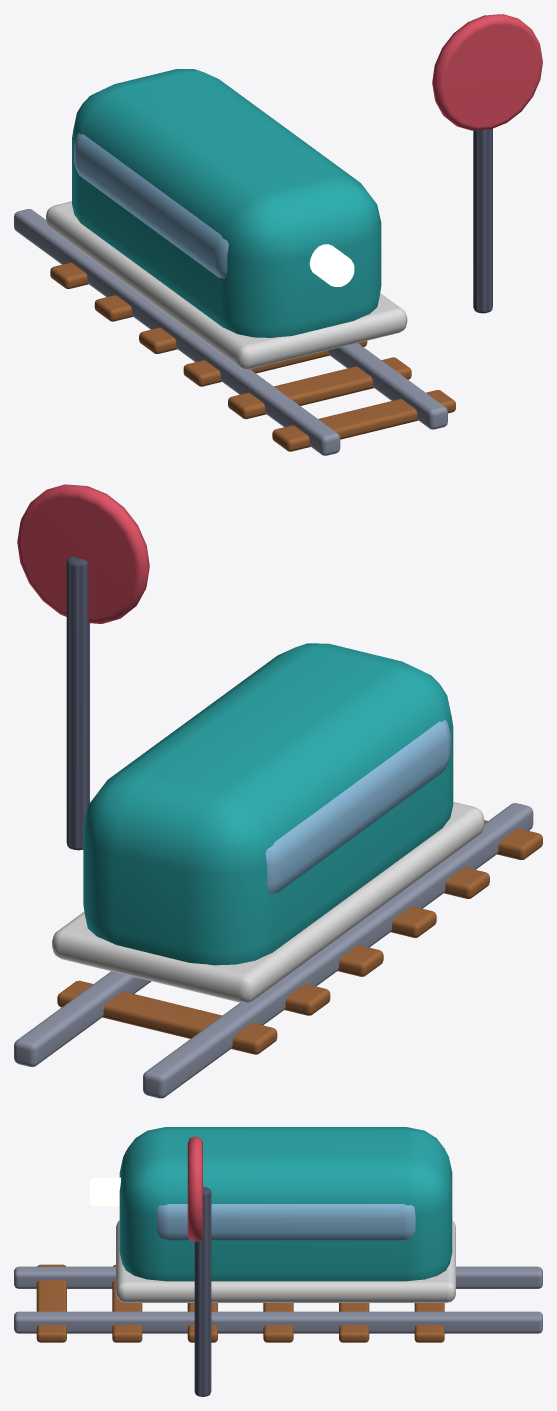
The model's file is s_metro.glb.
3 views of the same model, one above another, from view 1: azimuth 30°, elevation 25°; view 2: azimuth 150°, elevation 25°; view 3: azimuth 270°, elevation 25° (orthographic). The views are drawn at different scales.
Parts seen in each view (by area): view 1: Cube; view 2: Cube; view 3: Cube.
Boxes of the visible parts, left/top/right/bottom form: Cube: left=14, top=14, right=542, bottom=455; Cube: left=14, top=484, right=542, bottom=1098; Cube: left=14, top=1127, right=542, bottom=1396.
Size of the model in its own units: 0.45 by 0.3705 by 0.7.
